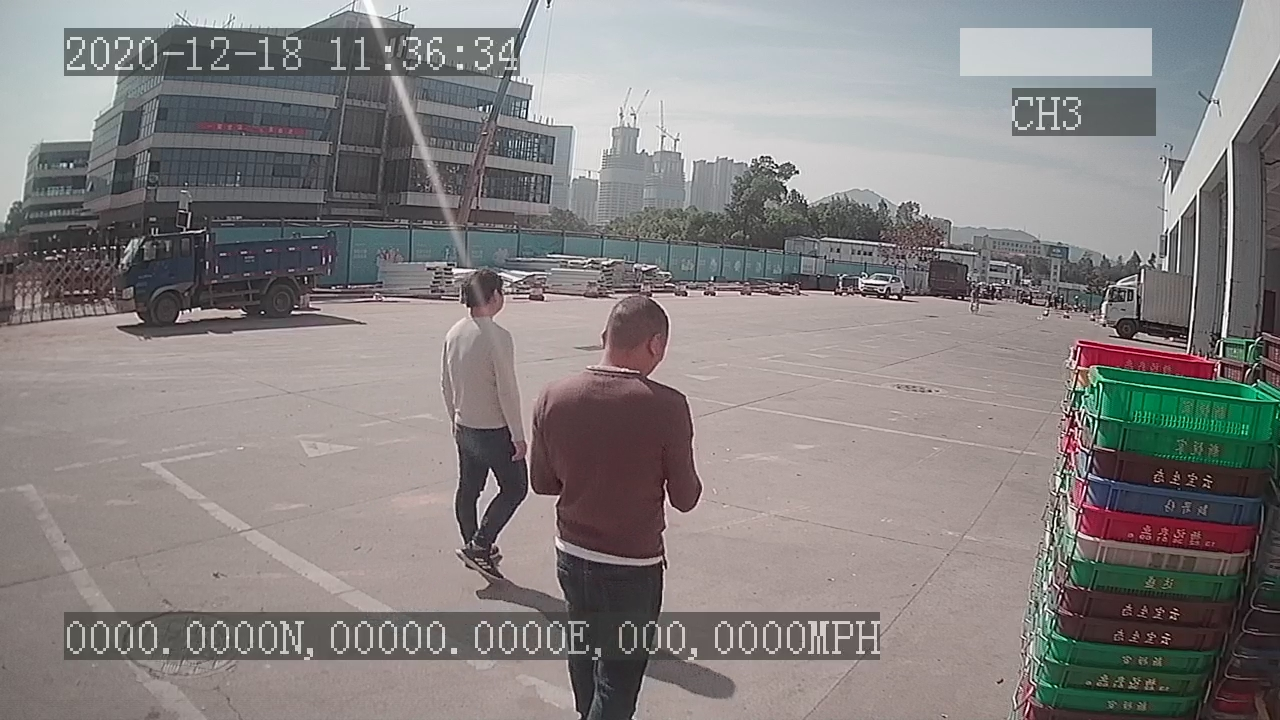person: (435, 264, 530, 584)
